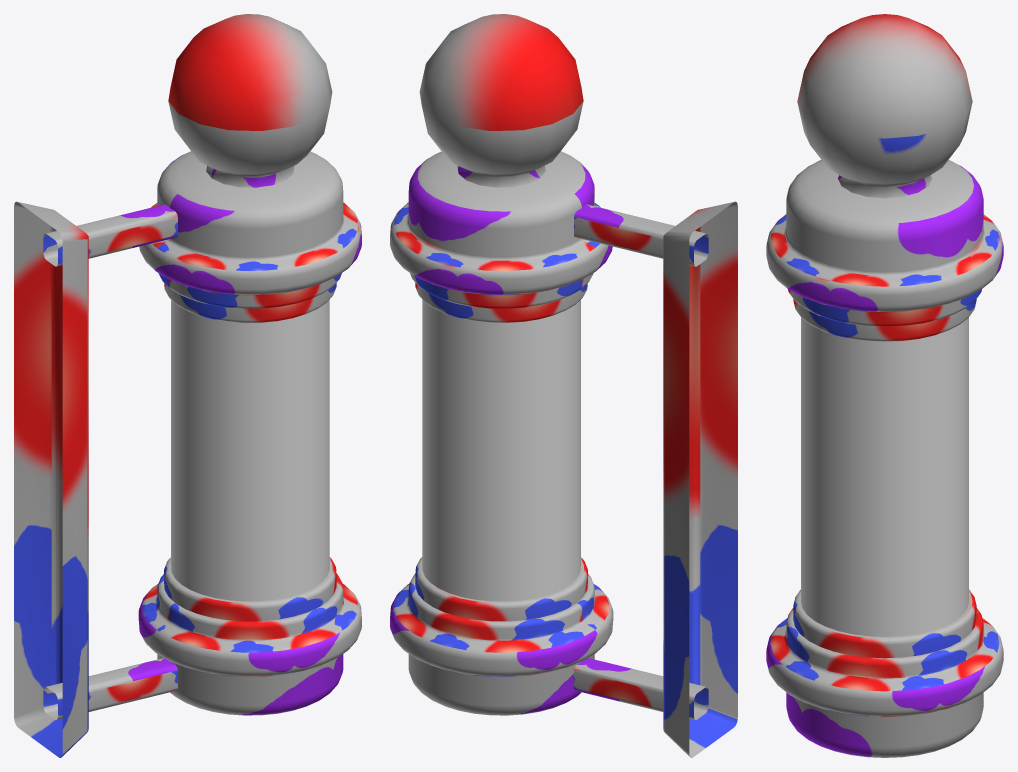
Rendered from SM_BarberPole.fbx.
The picture shows the model from 3 angles, left to right: view 1: azimuth 30°, elevation 25°; view 2: azimuth 150°, elevation 25°; view 3: azimuth 270°, elevation 25°; orthographic projection. The views are drawn at different scales.
Parts seen in each view (by area): view 1: Cylinder.028; view 2: Cylinder.028; view 3: Cylinder.028.
Boxes of the visible parts, x1=… form: Cylinder.028: x1=14, y1=14, x2=361, y2=757; Cylinder.028: x1=390, y1=14, x2=737, y2=757; Cylinder.028: x1=766, y1=14, x2=1003, y2=757.
Size of the model in its own units: 103 by 214 by 64.87.
